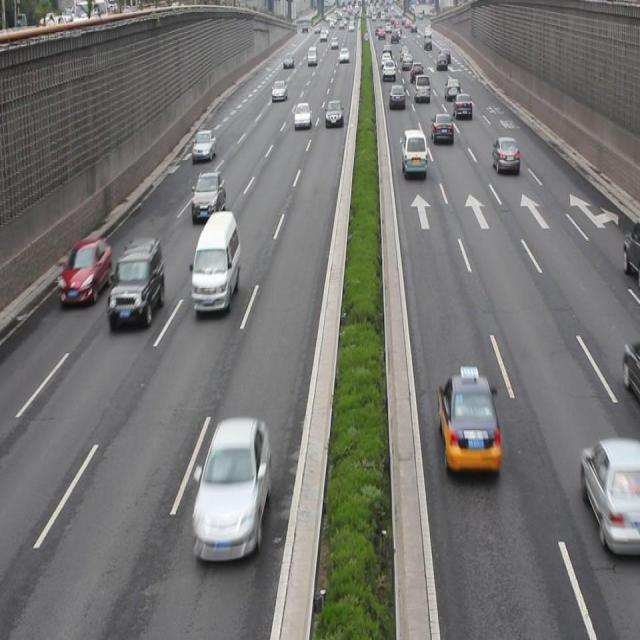car: (192, 418, 270, 556), (580, 437, 640, 558), (437, 372, 500, 474), (107, 237, 165, 326), (58, 237, 111, 305), (190, 170, 226, 222), (492, 135, 519, 173), (430, 111, 453, 146), (191, 129, 216, 161)
truck: (191, 212, 240, 312), (400, 128, 428, 177)
